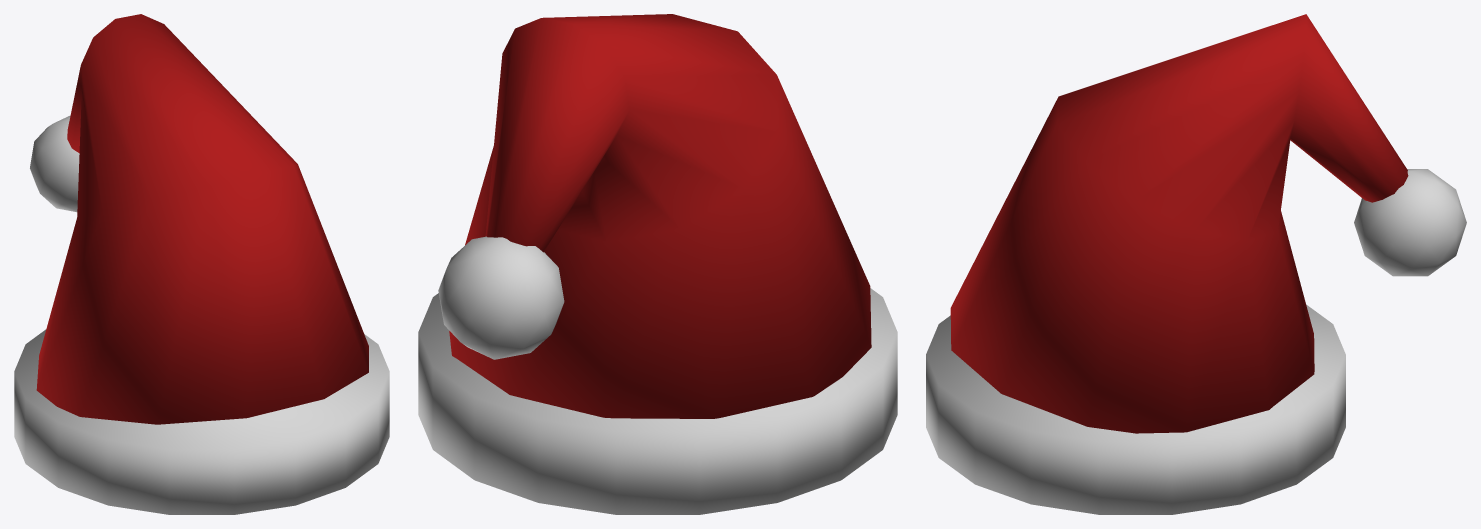
Rendered from santa_hat.glb.
3 views of the same model, side by side, from view 1: azimuth 30°, elevation 25°; view 2: azimuth 150°, elevation 25°; view 3: azimuth 270°, elevation 25° (orthographic). The views are drawn at different scales.
Parts seen in each view (by area): view 1: santa_hat_v0; view 2: santa_hat_v0; view 3: santa_hat_v0.
Part boxes in pixels (x1,y1,x2,y2): santa_hat_v0: (14, 14, 389, 514); santa_hat_v0: (418, 14, 897, 514); santa_hat_v0: (926, 14, 1466, 514).
Bounding box in the file's own units: 0.256 × 0.2787 × 0.335.
